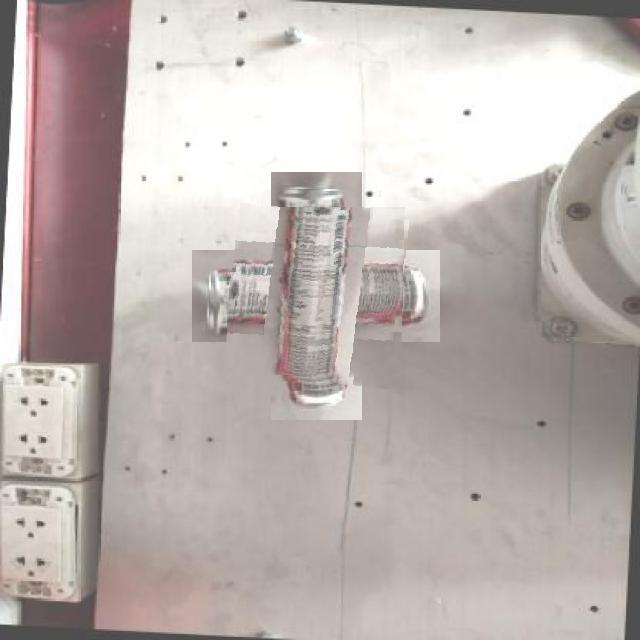recyclable: (227, 207, 405, 385)
